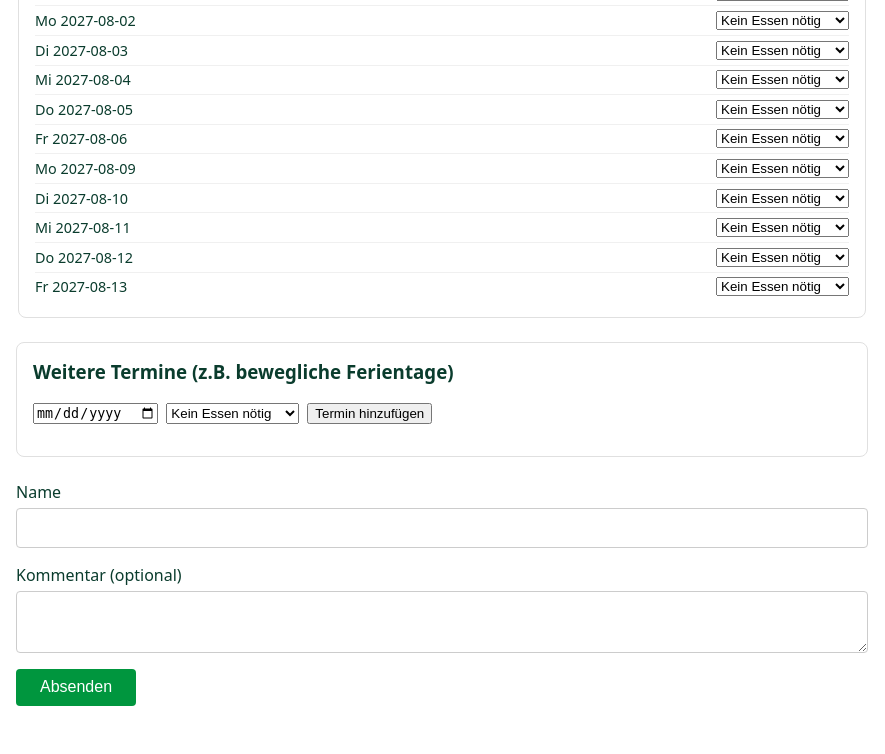
it: SurveyForm › zeigt eine Fehlermeldung, wenn fetch fehlschlägt
(page scrolled)
Step 1. Type "Max Mustermann" into the field labelled "Name" → (442, 528), box [16, 508, 868, 548]
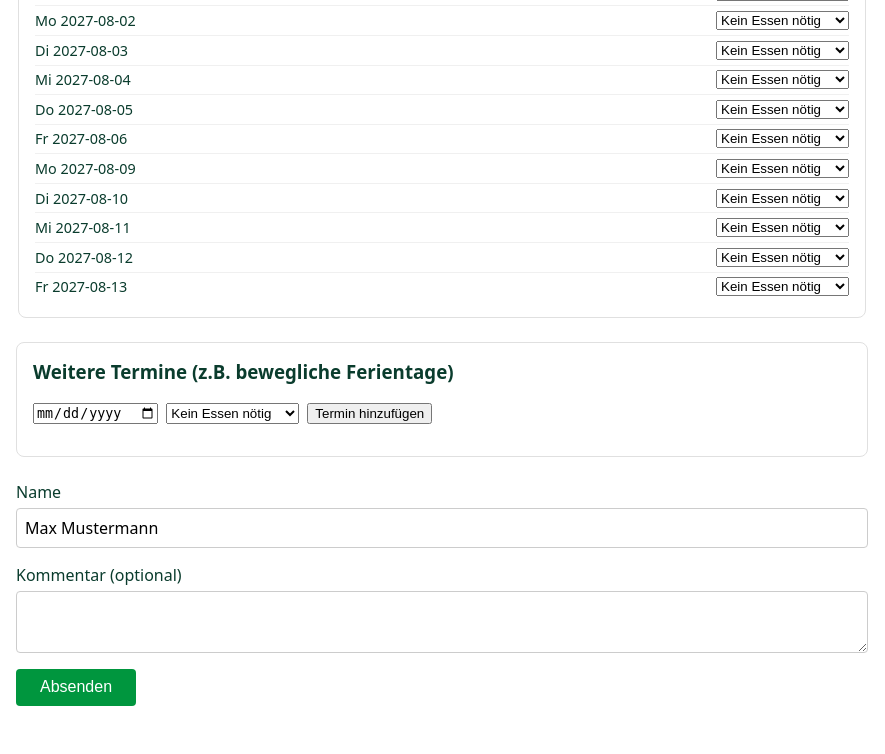
Step 2. Click the button "Absenden" → (76, 688), box [16, 669, 136, 706]
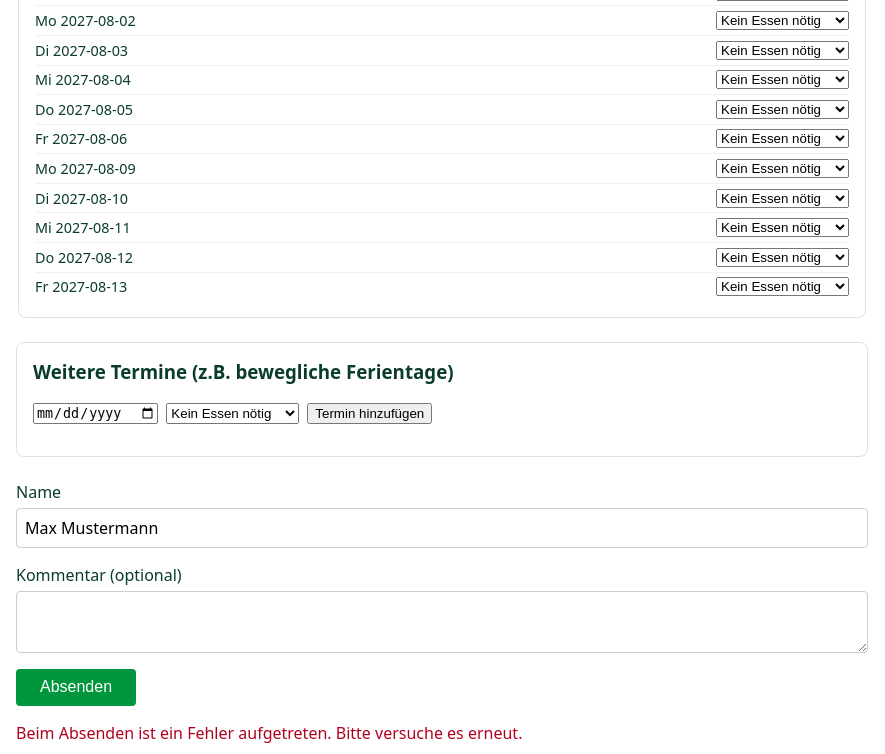
Check: the text "Beim Absenden ist ein Fehler aufgetreten. Bitte versuche es erneut." is shown, box [16, 722, 522, 744]
